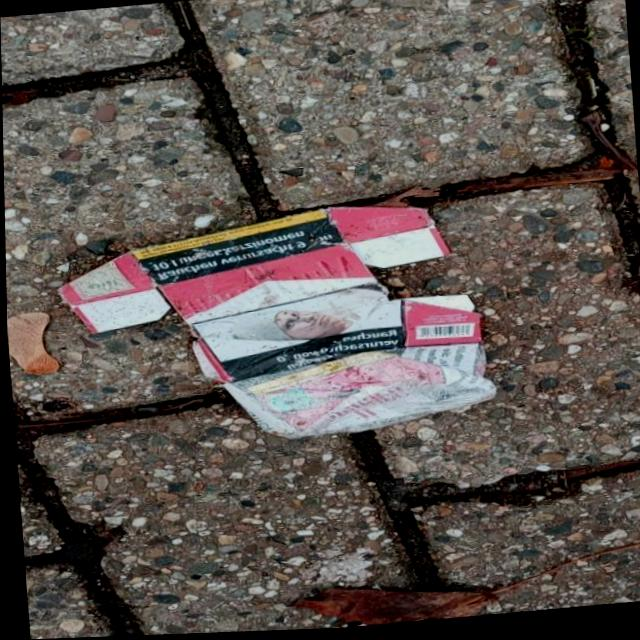Paper: (48, 192, 500, 460)
